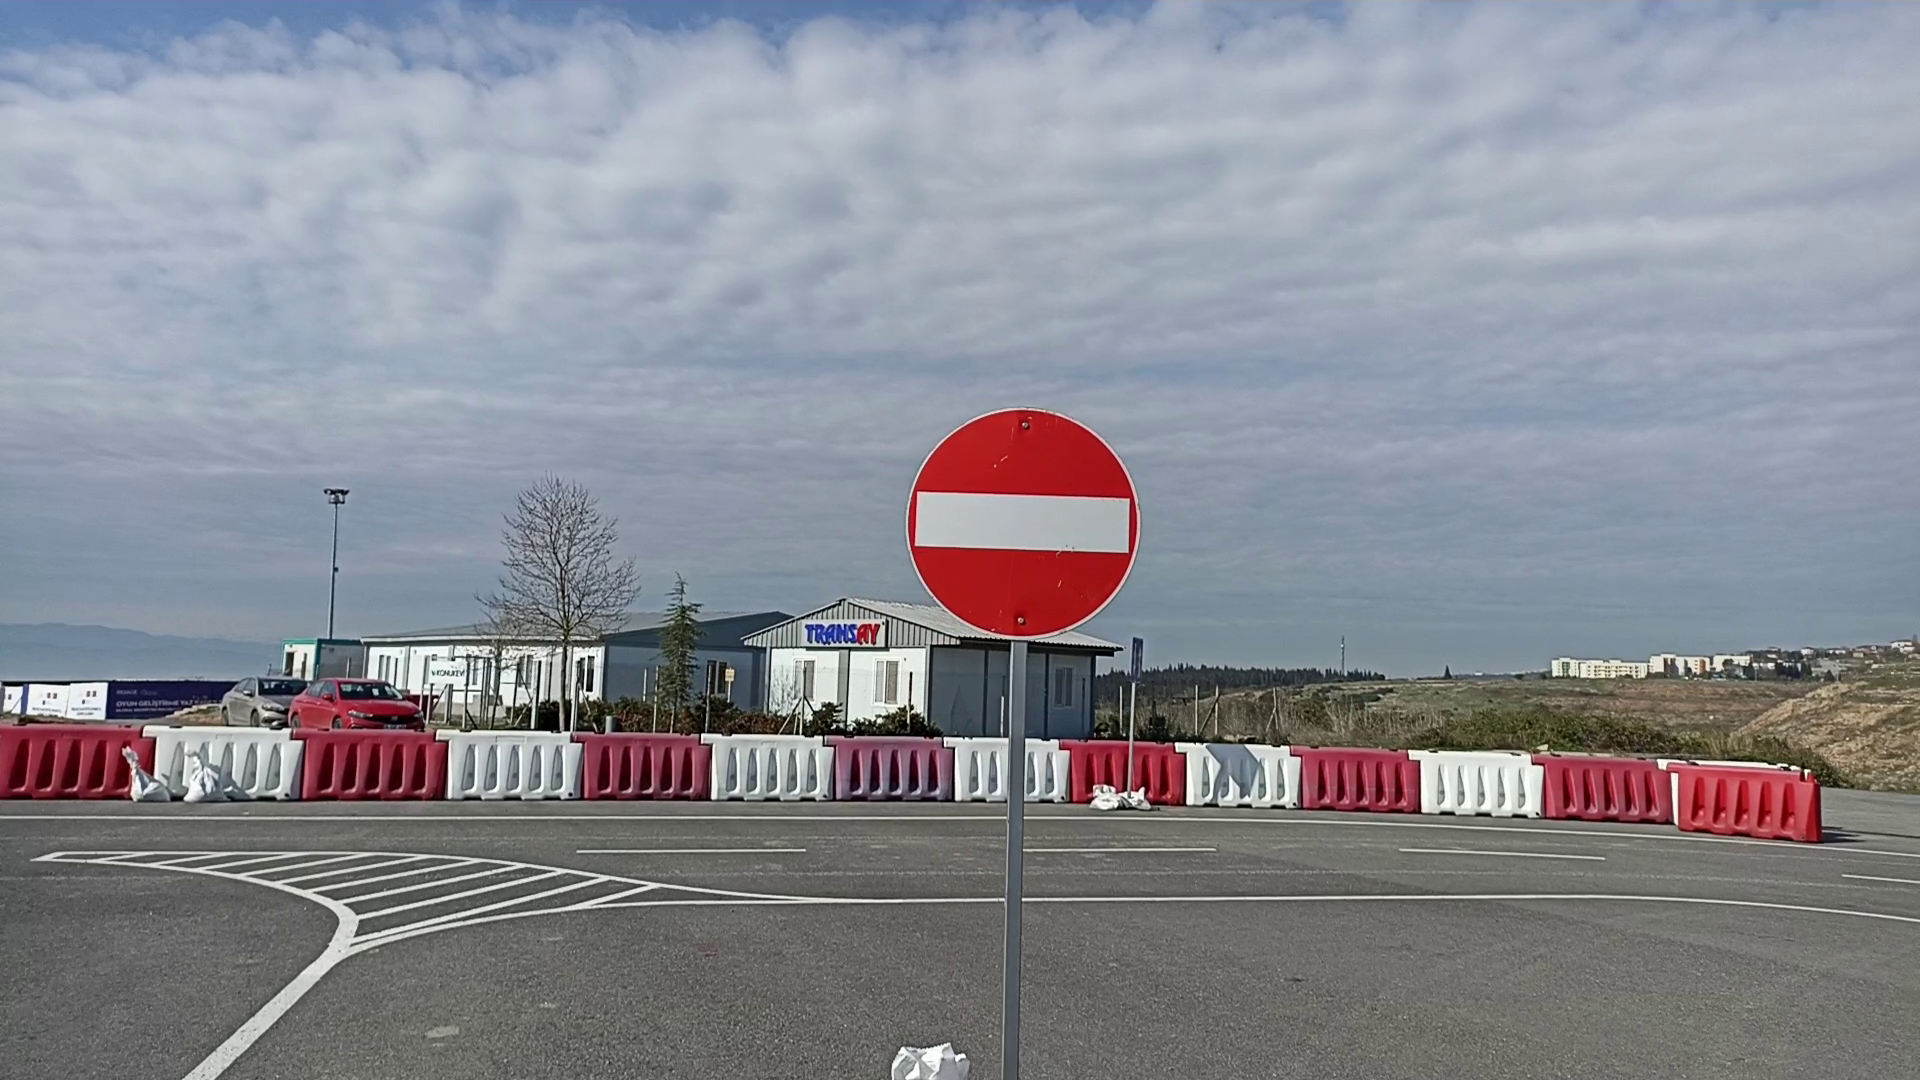noentryway: (901, 404, 1146, 644)
